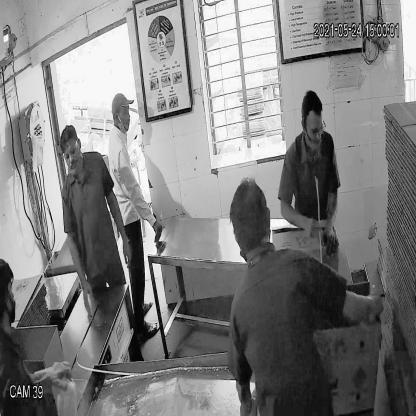goggles: (61, 141, 80, 164)
